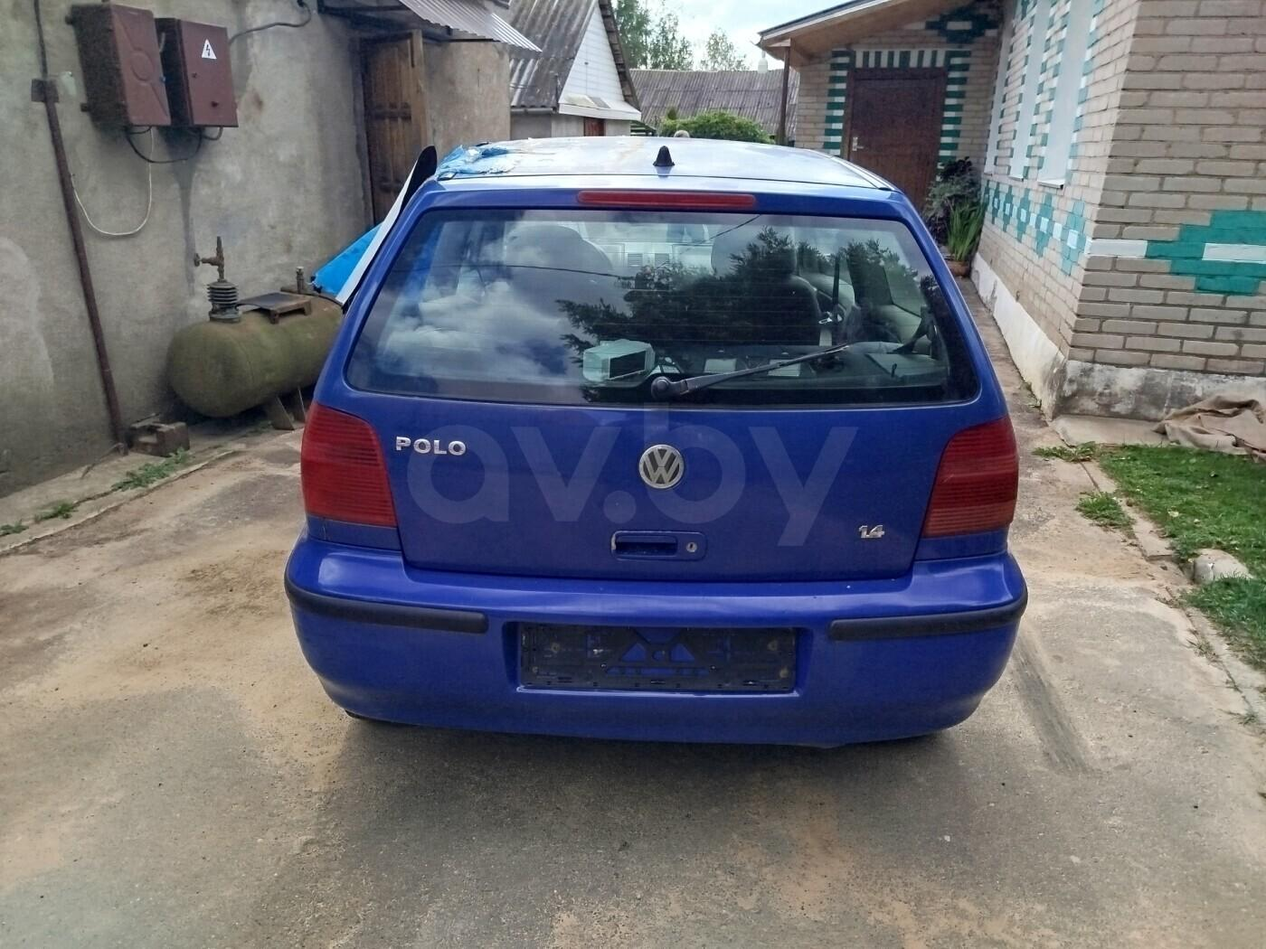Polo_2000-2002: (275, 125, 1041, 792)
